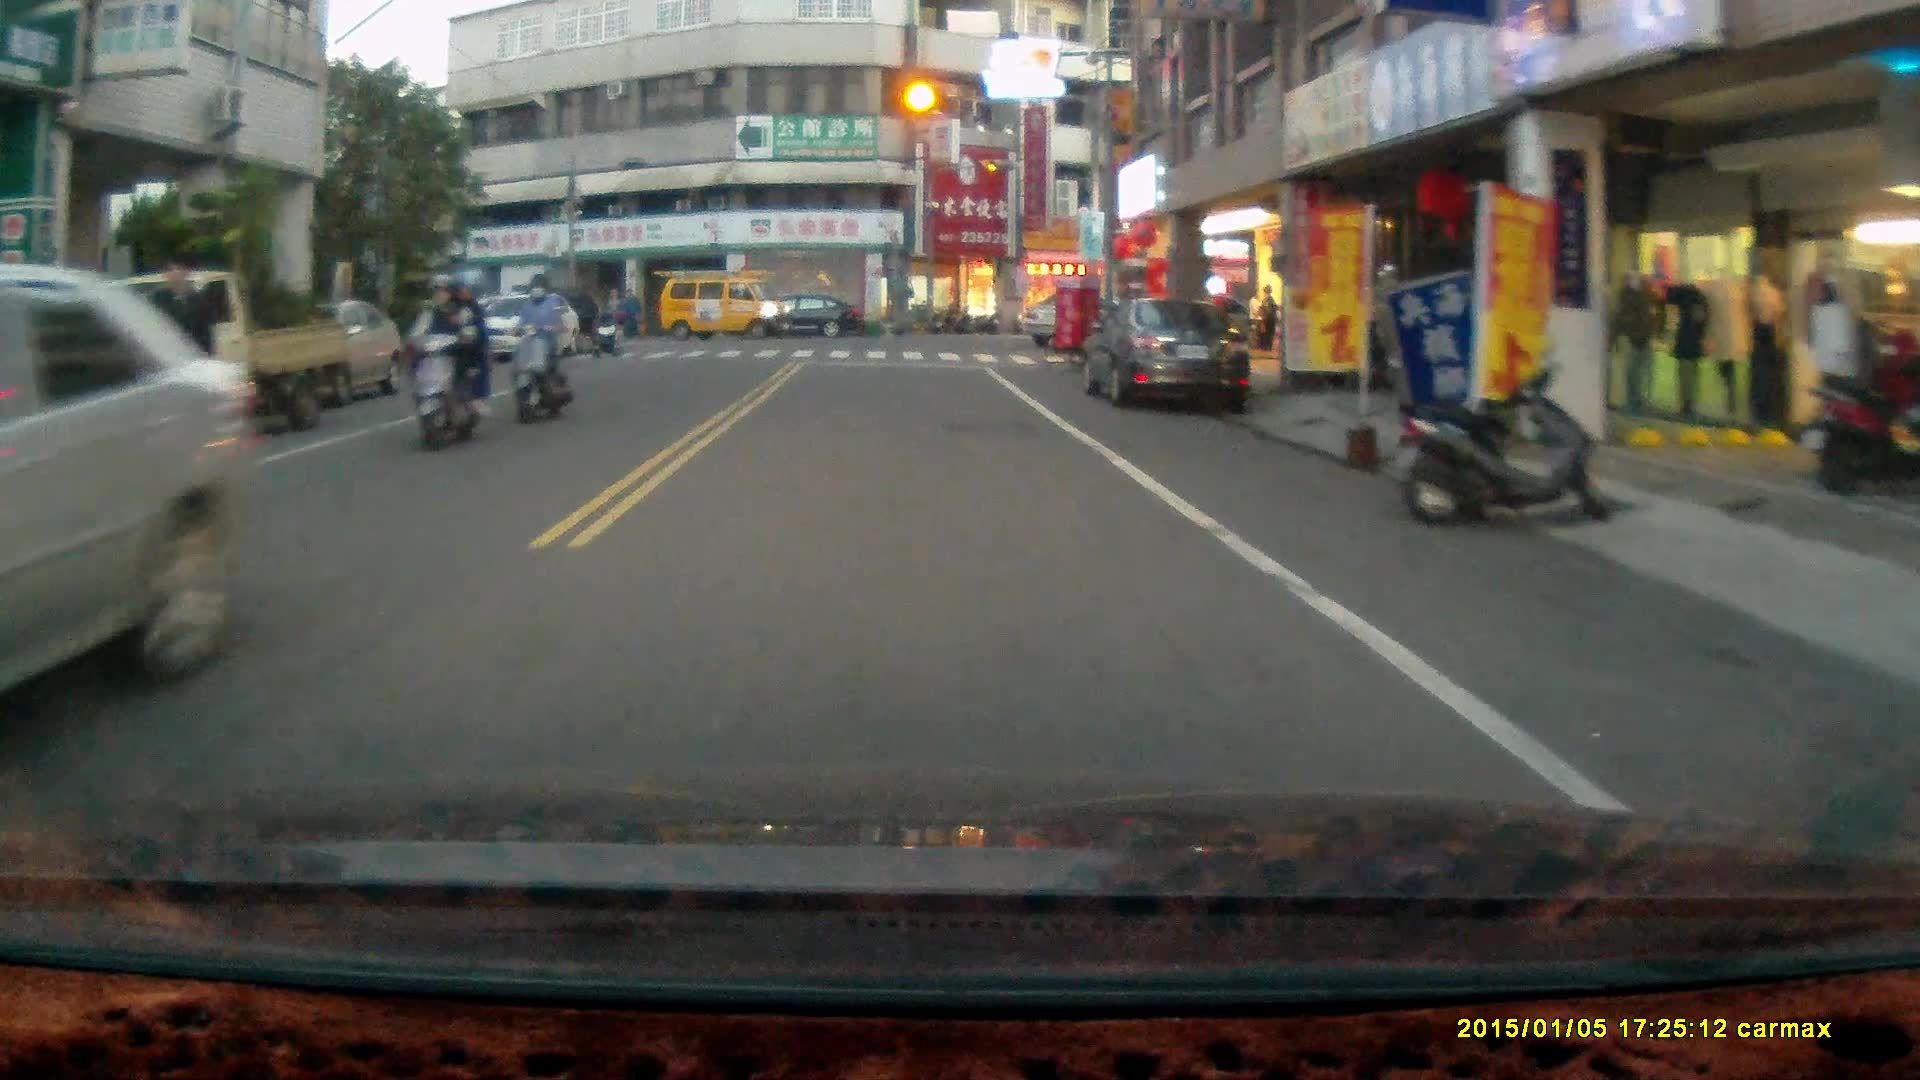pedestrian: (135, 249, 216, 479), (1255, 280, 1278, 354)
rider: (400, 266, 491, 452), (509, 272, 574, 426), (588, 306, 624, 360)
vehicle: (1074, 288, 1260, 426), (659, 268, 791, 340), (753, 291, 863, 339)
